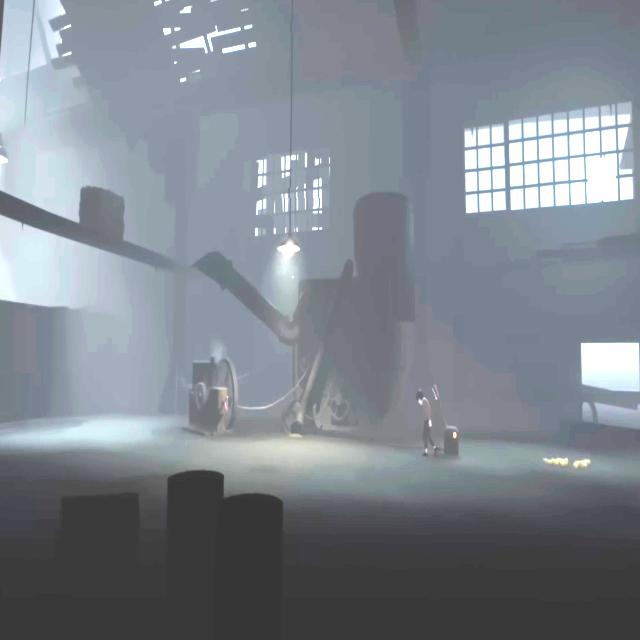boy: (417, 389, 437, 456)
